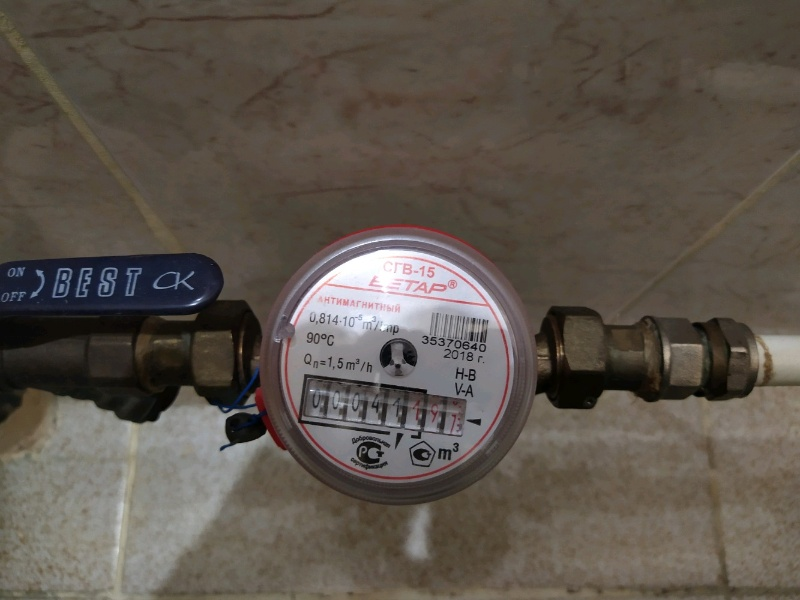meter: (305, 381, 462, 441)
